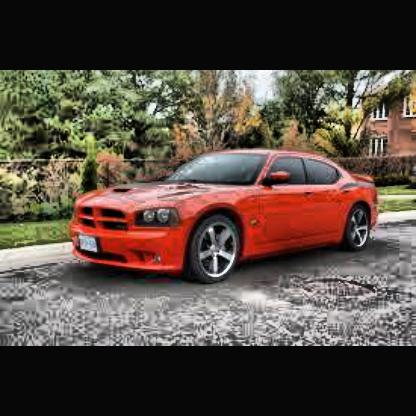Dodge Charger SRT-8 2009: (67, 147, 383, 287)
